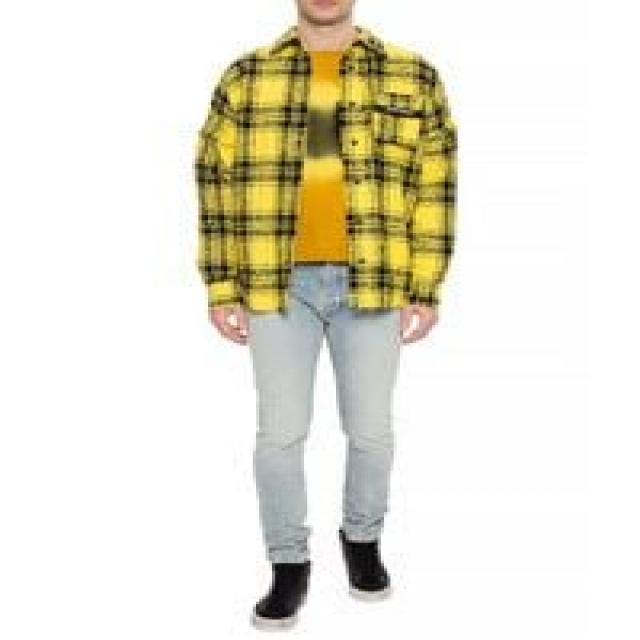plaid: (190, 23, 461, 316)
